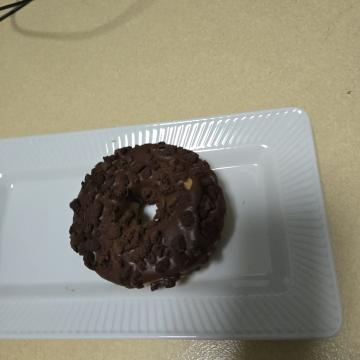doughnut: (127, 124, 304, 304)
